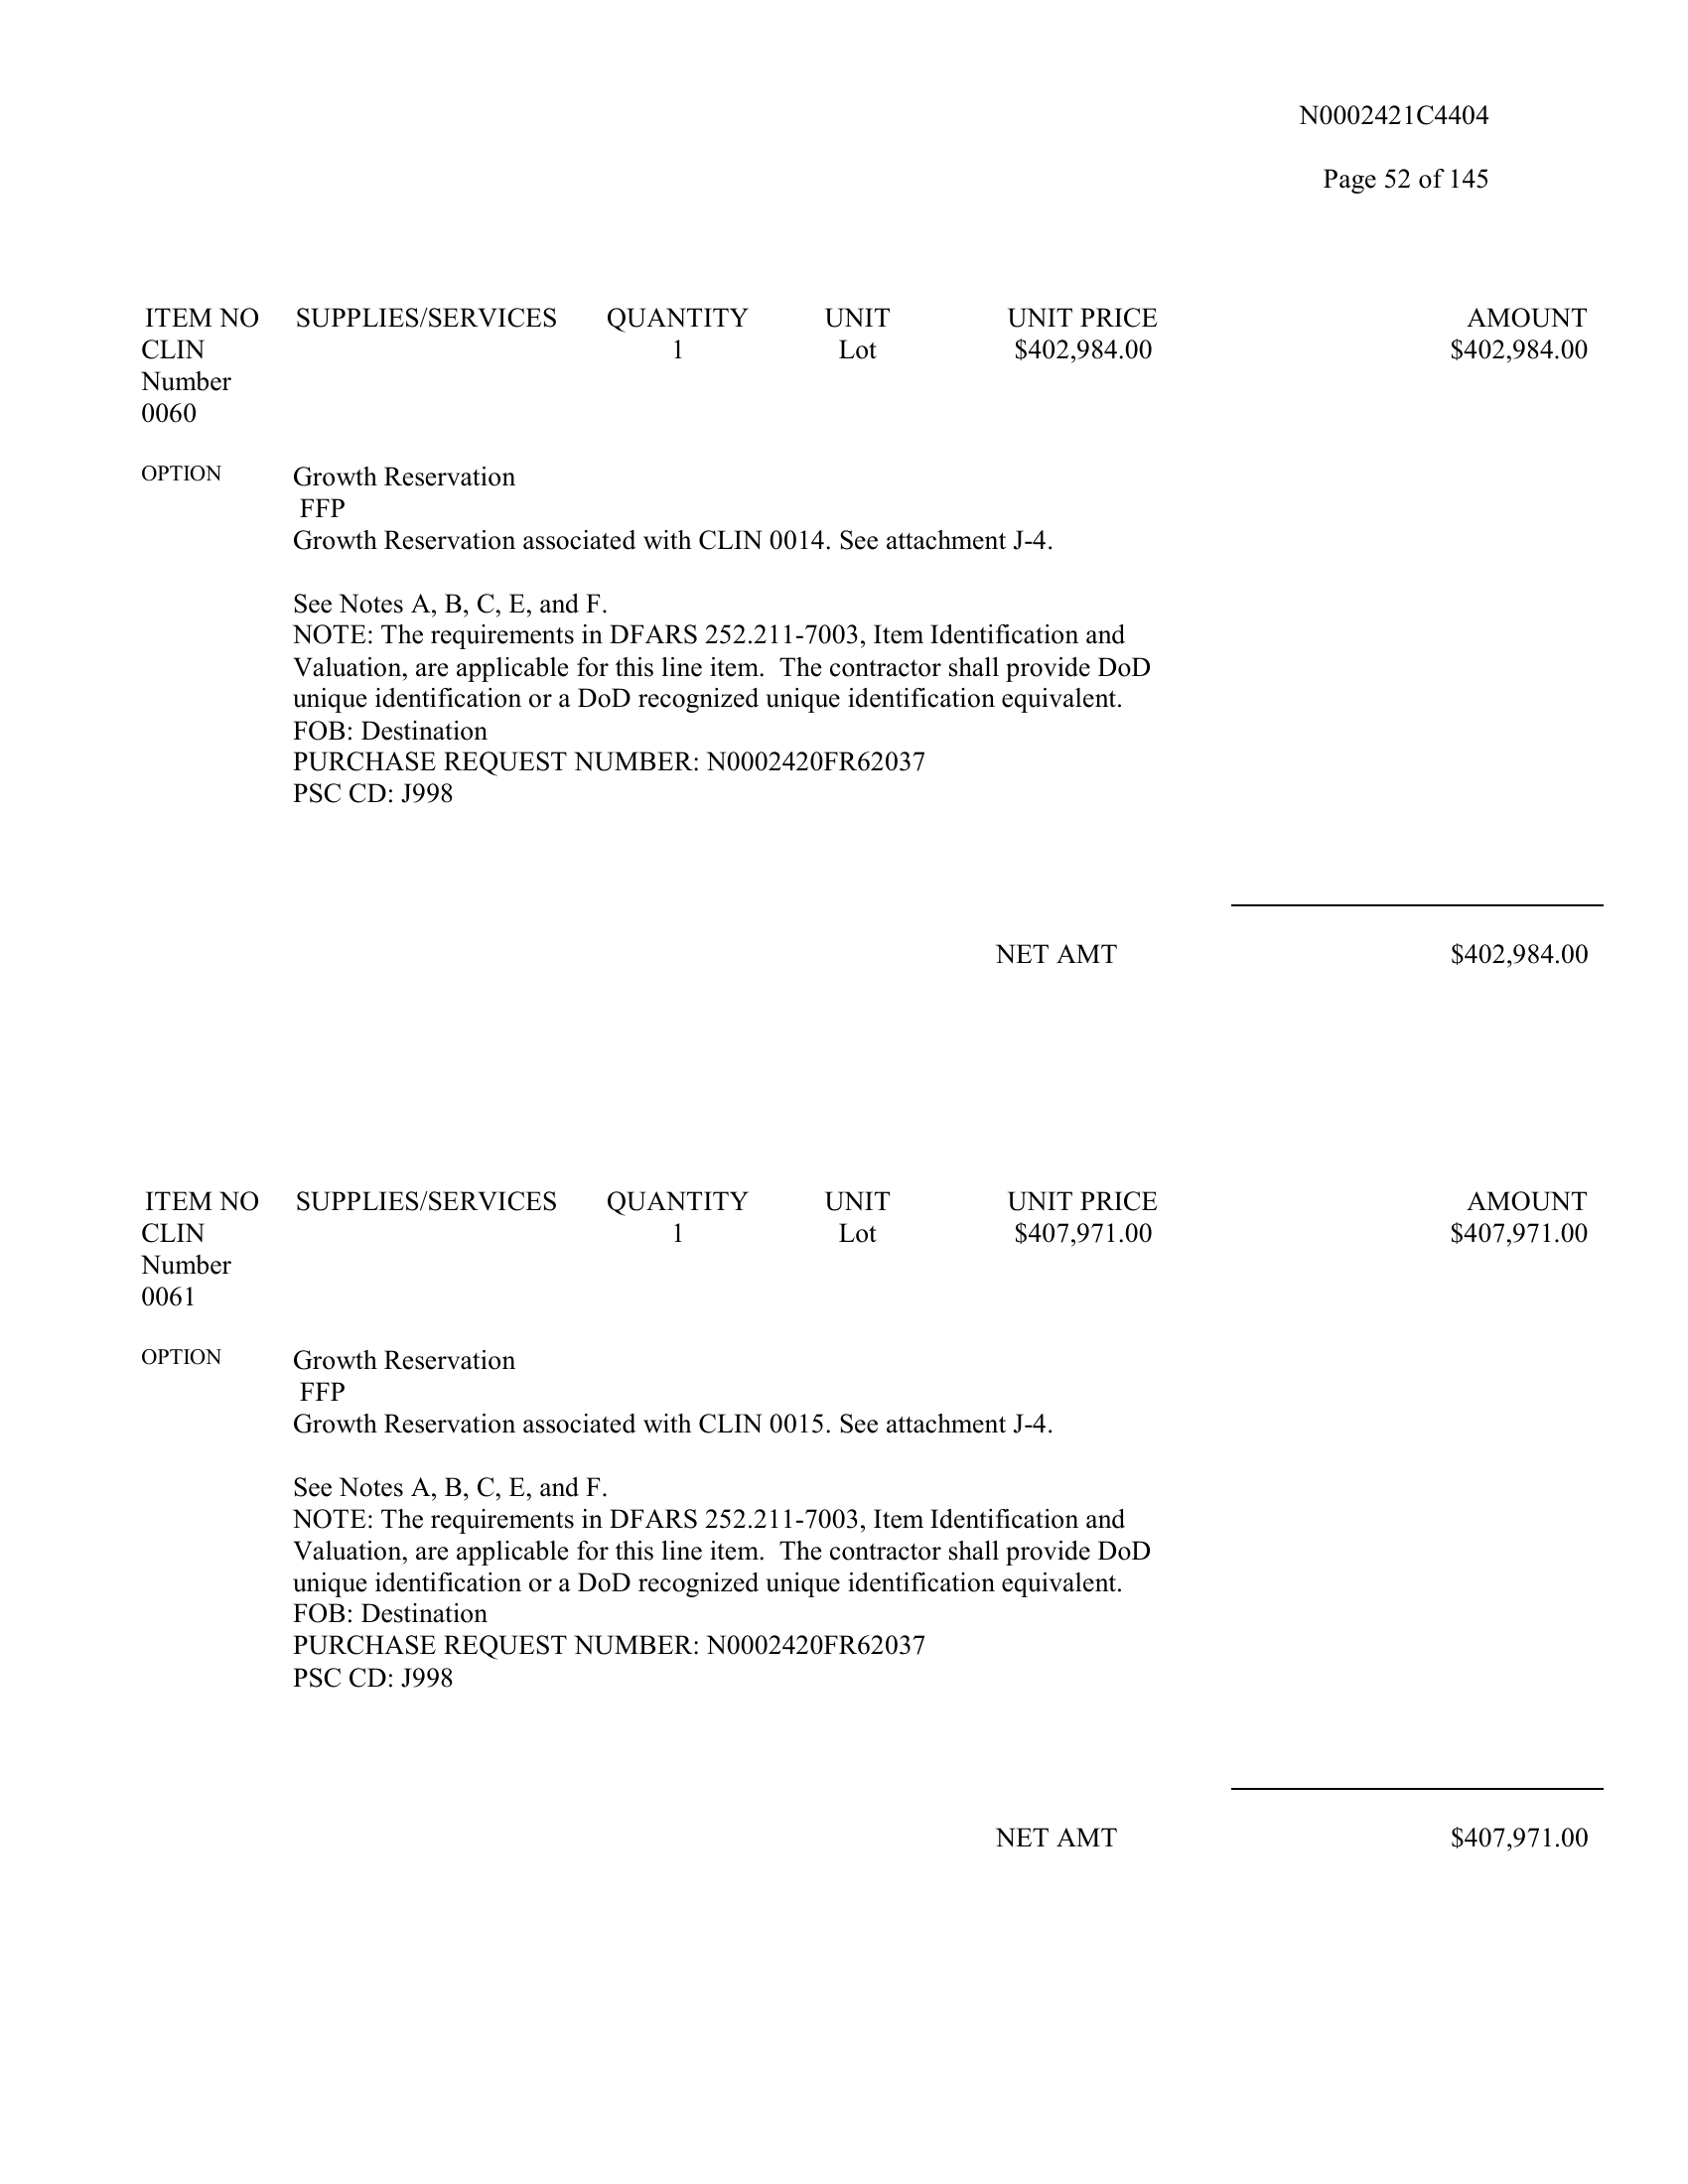table: (138, 1181, 1617, 1858), (131, 301, 1601, 979)
